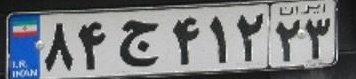character: (117, 13, 162, 70), (40, 20, 75, 74), (76, 17, 108, 73), (171, 13, 201, 67), (238, 11, 263, 63), (305, 16, 333, 62), (275, 18, 302, 64), (207, 14, 231, 64)
